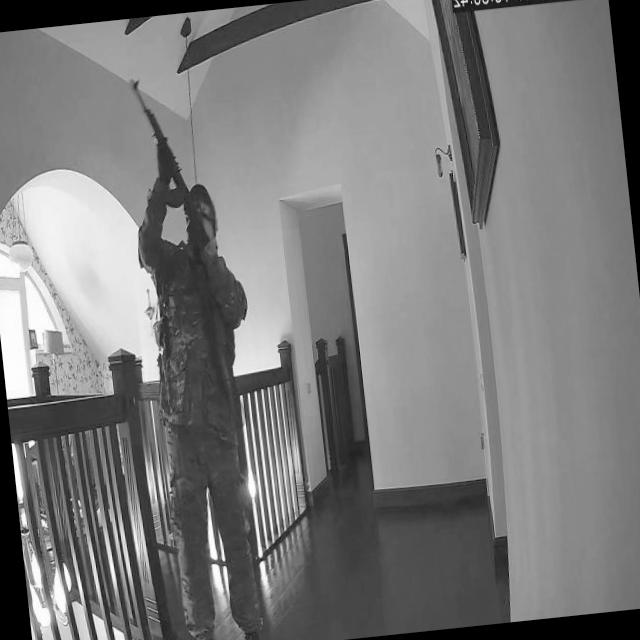gun: (130, 71, 207, 249)
person with a gun: (130, 69, 272, 640)
